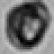correct: (3, 2, 54, 50)
